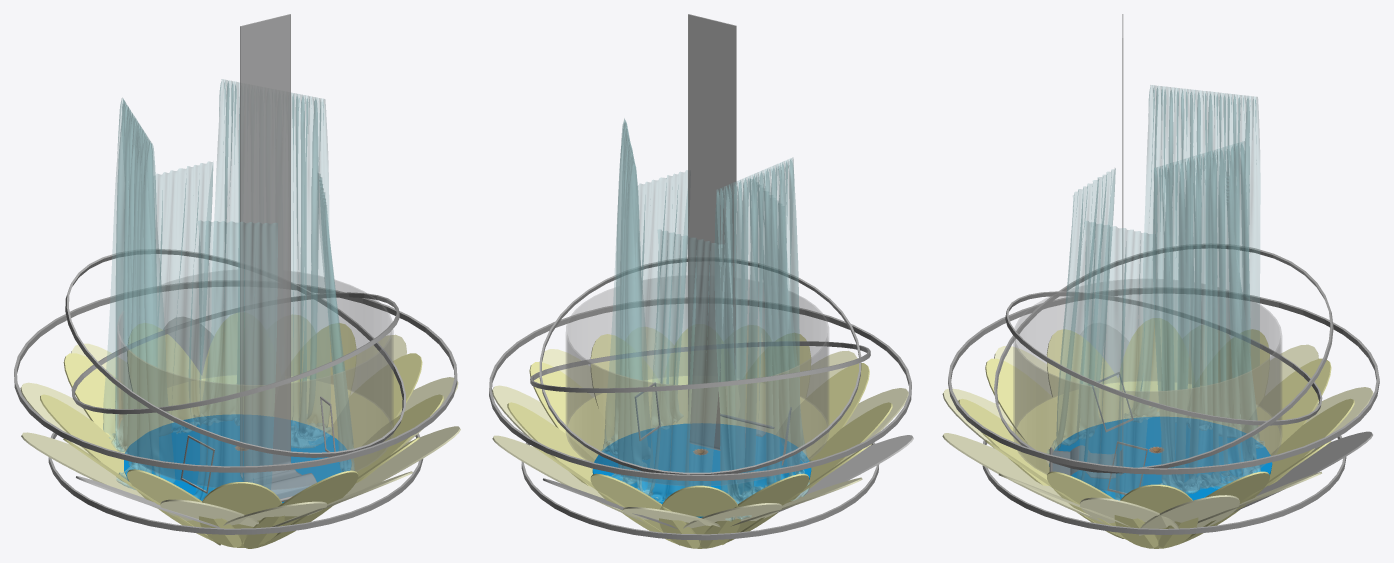
The model's file is Block.fbx.
3 renders of one model, left to right at view 1: azimuth 30°, elevation 25°; view 2: azimuth 150°, elevation 25°; view 3: azimuth 270°, elevation 25°, orthographic. The views are drawn at different scales.
Parts seen in each view (by area): view 1: group39_pasted__pCube2; view 2: group39_pasted__pCube2; view 3: group39_pasted__pCube2.
Boxes of the visible parts, x1,y1,x2,y2 form: group39_pasted__pCube2: [14, 14, 460, 548]; group39_pasted__pCube2: [489, 14, 913, 548]; group39_pasted__pCube2: [942, 14, 1379, 548].
Bounding box in the file's own units: 1879 × 2467 × 1903.
